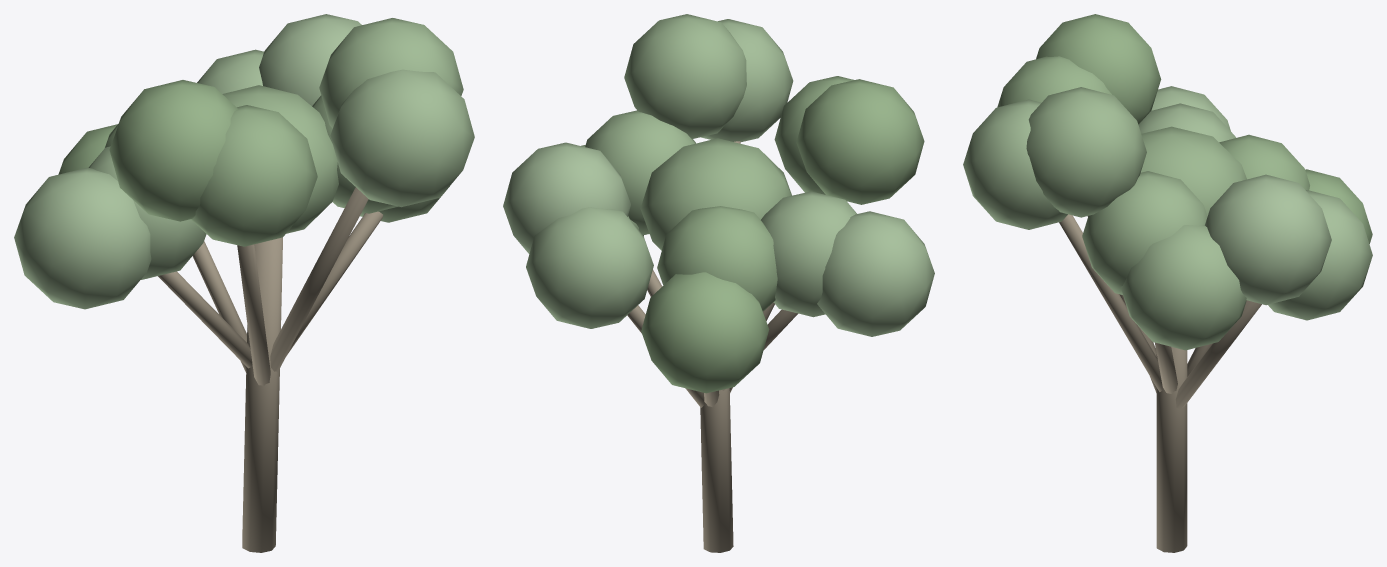
File: oak-young.glb
The picture shows the model from 3 angles, left to right: view 1: azimuth 30°, elevation 25°; view 2: azimuth 150°, elevation 25°; view 3: azimuth 270°, elevation 25°; orthographic projection. The views are drawn at different scales.
Visible parts, largest first — view 1: oak-young; view 2: oak-young; view 3: oak-young.
Part boxes in pixels (x1=…): oak-young: x1=14, y1=14, x2=474, y2=552; oak-young: x1=503, y1=14, x2=934, y2=552; oak-young: x1=963, y1=14, x2=1372, y2=552.
Bounding box in the file's own units: 6.97 × 8.23 × 6.23.
